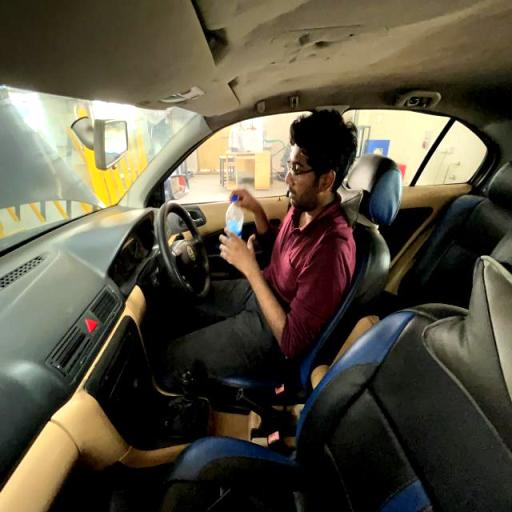Drinking: (195, 107, 361, 406)
